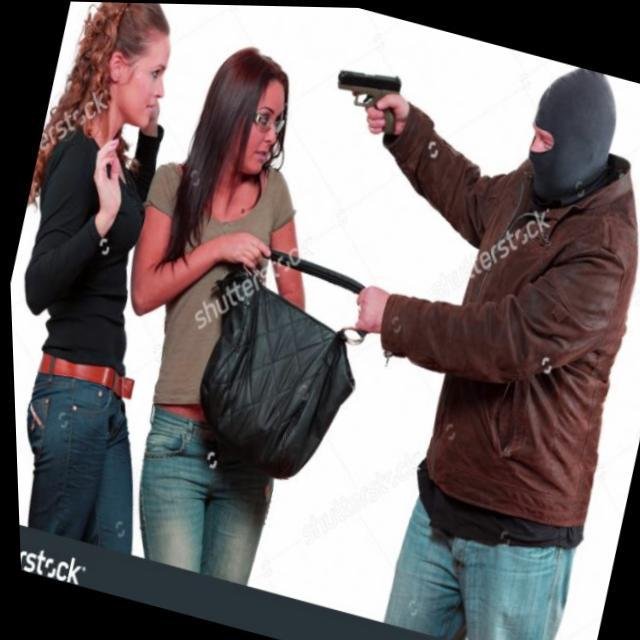weapon: (325, 59, 406, 134)
